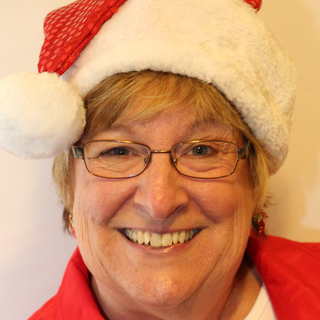eye: (90, 142, 143, 163), (174, 140, 222, 161)
